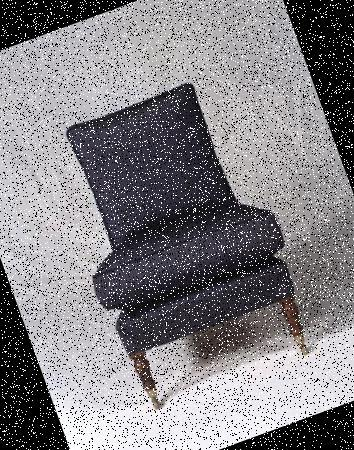Silla: (48, 70, 322, 411)
